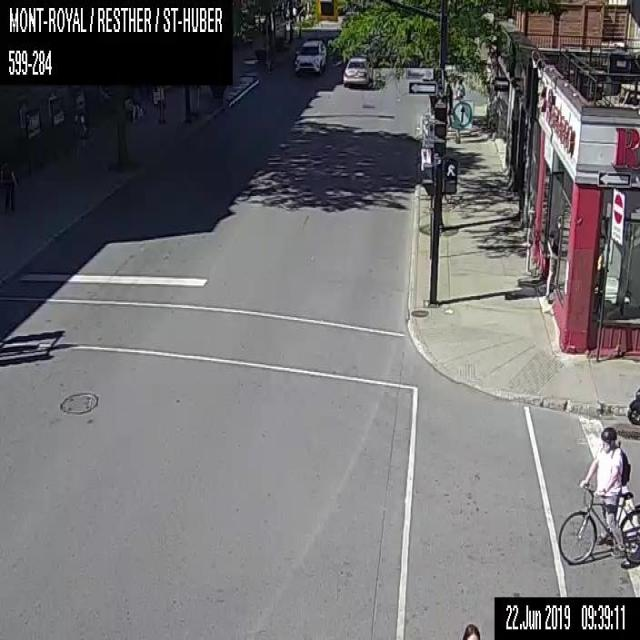cyclist: (556, 425, 639, 567)
pedestrian: (2, 158, 17, 212), (154, 84, 166, 123), (462, 622, 480, 638)
vehicle: (294, 40, 326, 72), (342, 58, 372, 84)
